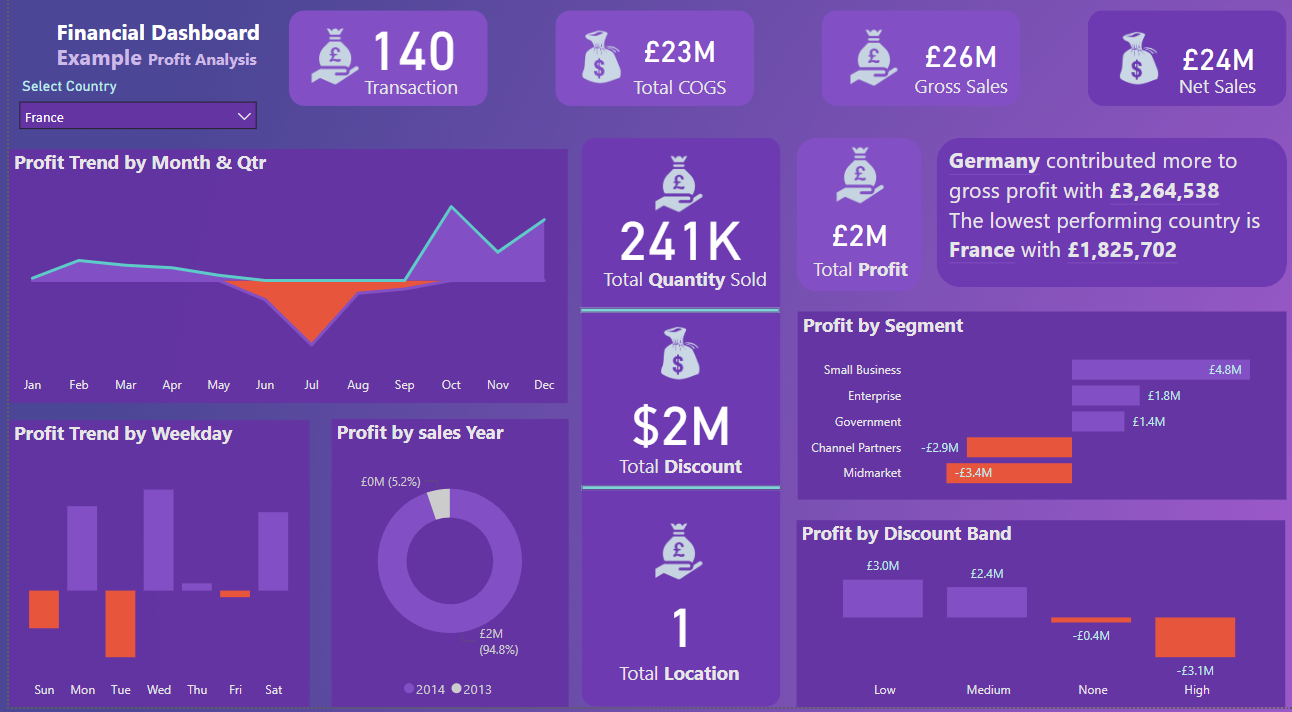

Layout of this report page (visuals, bound fields, positions):
{"tool":"powerbi","page":{"name":"Page 1","canvas":[1280,720],"ordinal":0},"visuals":[{"type":"shape","box":[279,25.7,198.1,95.4],"z":0},{"type":"shape","box":[544,25.7,198.1,95.4],"z":1000},{"type":"shape","box":[808.9,25.7,198.1,95.4],"z":2000},{"type":"shape","box":[1073.9,25.7,198.1,95.4],"z":3000},{"type":"image","box":[544.4,40.4,89.3,66],"z":4000},{"type":"image","box":[275.4,37.9,99,69.7],"z":5000},{"type":"image","box":[1079.7,40.6,89.3,66],"z":6000},{"type":"image","box":[810.7,38.1,99,69.7],"z":7000},{"type":"card","fields":{"Values":["All Measures.# Transactions"]},"box":[325.5,25.7,151.6,67.3],"z":8000},{"type":"textbox","box":[345.1,84.4,111.3,36.7],"z":9000},{"type":"card","fields":{"Values":["All Measures.COGS"]},"box":[592.1,37.9,151.6,56.3],"z":10000},{"type":"textbox","box":[611.6,84.1,111.3,36.7],"z":11000},{"type":"card","fields":{"Values":["All Measures.Gross Sales"]},"box":[872.1,48.9,151.6,42.8],"z":12000},{"type":"textbox","box":[891.7,83.2,111.3,36.7],"z":13000},{"type":"card","fields":{"Values":["All Measures.Net Sales"]},"box":[1127.7,40.4,151.6,66],"z":14000},{"type":"textbox","box":[1147.5,83.6,111.3,36.7],"z":15000},{"type":"textbox","box":[0,26.9,297.1,46.5],"z":16000},{"type":"textbox","box":[35.5,52.6,221.3,41.6],"z":17000},{"type":"areaChart","title":"Profit Trend by Month & Qtr","fields":{"Category":["Calender.Qtr","Calender.Month"],"Y":["All Measures.Profit Negative","All Measures.Profit Positive"]},"box":[0,163.9,556.4,253.1],"z":18000},{"type":"columnChart","title":"Profit Trend by Weekday","fields":{"Category":["Calender.Weekday"],"Y":["All Measures.Total Profit"]},"box":[0,433.6,299,287],"z":19000},{"type":"donutChart","title":"Profit by sales Year","fields":{"Category":["Calender.Year"],"Y":["All Measures.Total Profit"]},"box":[320.4,432.9,236,287.4],"z":20000},{"type":"shape","box":[569.8,152.9,198.1,566.2],"z":21000},{"type":"image","box":[623.6,335.1,89.3,66],"z":22000},{"type":"image","box":[617.5,163.9,99,69.7],"z":23000},{"type":"image","box":[617.5,529.5,99,69.7],"z":24000},{"type":"shape","box":[568.6,321.6,198.1,4.9],"z":25000},{"type":"shape","box":[569.8,498.9,198.1,4.9],"z":26000},{"type":"textbox","box":[578.4,276.2,189.1,48.5],"z":27000},{"type":"textbox","box":[578.4,461,179.8,42.8],"z":28000},{"type":"textbox","box":[577.2,667.7,179.8,42.8],"z":29000},{"type":"card","fields":{"Values":["Sum(financials.Units Sold)"]},"box":[591.9,215.2,151.6,67.3],"z":30000},{"type":"card","fields":{"Values":["All Measures.Total Discount"]},"box":[593.1,399.9,151.6,67.3],"z":31000},{"type":"card","fields":{"Values":["Count(financials.Country)"]},"box":[593.1,600.4,151.6,67.3],"z":32000},{"type":"shape","box":[783.8,152.9,124.7,152.9],"z":33000},{"type":"image","box":[797.3,155.3,99,69.7],"z":34000},{"type":"textbox","box":[785.1,266.6,124.7,39.1],"z":35000},{"type":"card","fields":{"Values":["All Measures.Total Profit"]},"box":[771.6,220.1,151.6,56.3],"z":36000},{"type":"shape","box":[923.2,152.9,348.5,149.2],"z":37000},{"type":"barChart","title":"Profit by Segment","fields":{"Category":["financials.Segment"],"Y":["All Measures.Total Profit"]},"box":[785.1,326.5,486.7,187.1],"z":38000},{"type":"columnChart","title":"Profit by Discount Band","fields":{"Category":["financials.Discount Band"],"Y":["All Measures.Total Profit"]},"box":[783.8,533.2,486.7,187.1],"z":39000},{"type":"slicer","fields":{"Values":["financials.Country"]},"box":[0,88,256.8,63.6],"z":40000},{"type":"textbox","box":[930.6,155.3,327.7,146.7],"z":41000}]}

Visuals, with their boxes in screenshot pixels (x1, y1, x2, y2), scaled from the page's 1280x720 canvas onto the 1292x712 screenshot:
shape: detection(282, 25, 482, 120)
shape: detection(549, 25, 749, 120)
shape: detection(816, 25, 1016, 120)
shape: detection(1084, 25, 1284, 120)
image: detection(550, 40, 640, 105)
image: detection(278, 37, 378, 106)
image: detection(1090, 40, 1180, 105)
image: detection(818, 38, 918, 107)
card - All Measures.# Transactions: detection(329, 25, 482, 92)
textbox: detection(348, 83, 461, 120)
card - All Measures.COGS: detection(598, 37, 751, 93)
textbox: detection(617, 83, 730, 119)
card - All Measures.Gross Sales: detection(880, 48, 1033, 91)
textbox: detection(900, 82, 1012, 119)
card - All Measures.Net Sales: detection(1138, 40, 1291, 105)
textbox: detection(1158, 83, 1271, 119)
textbox: detection(0, 27, 300, 73)
textbox: detection(36, 52, 259, 93)
"Profit Trend by Month & Qtr" areaChart: detection(0, 162, 562, 412)
"Profit Trend by Weekday" columnChart: detection(0, 429, 302, 711)
"Profit by sales Year" donutChart: detection(323, 428, 562, 711)
shape: detection(575, 151, 775, 711)
image: detection(629, 331, 720, 397)
image: detection(623, 162, 723, 231)
image: detection(623, 524, 723, 593)
shape: detection(574, 318, 774, 323)
shape: detection(575, 493, 775, 498)
textbox: detection(584, 273, 775, 321)
textbox: detection(584, 456, 765, 498)
textbox: detection(583, 660, 764, 703)
card - Sum(financials.Units Sold): detection(597, 213, 750, 279)
card - All Measures.Total Discount: detection(599, 395, 752, 462)
card - Count(financials.Country): detection(599, 594, 752, 660)
shape: detection(791, 151, 917, 302)
image: detection(805, 154, 905, 222)
textbox: detection(792, 264, 918, 302)
card - All Measures.Total Profit: detection(779, 218, 932, 273)
shape: detection(932, 151, 1284, 299)
"Profit by Segment" barChart: detection(792, 323, 1284, 508)
"Profit by Discount Band" columnChart: detection(791, 527, 1282, 711)
slicer - financials.Country: detection(0, 87, 259, 150)
textbox: detection(939, 154, 1270, 299)
